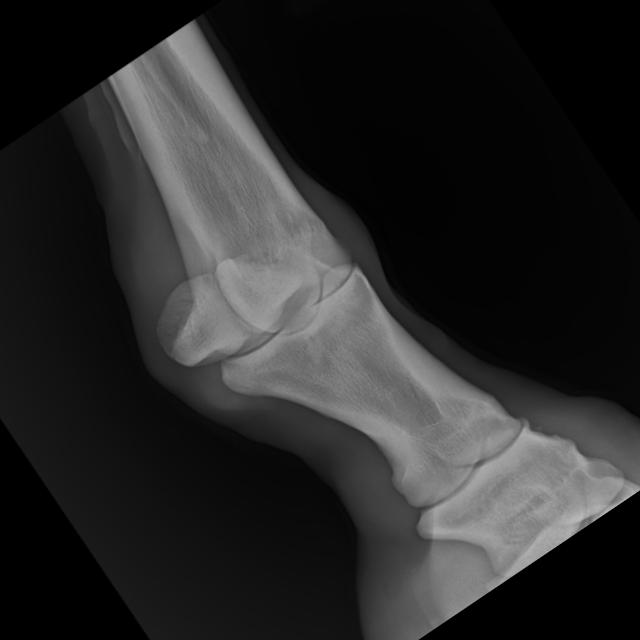joint-ht8A: (91, 115, 463, 482)
